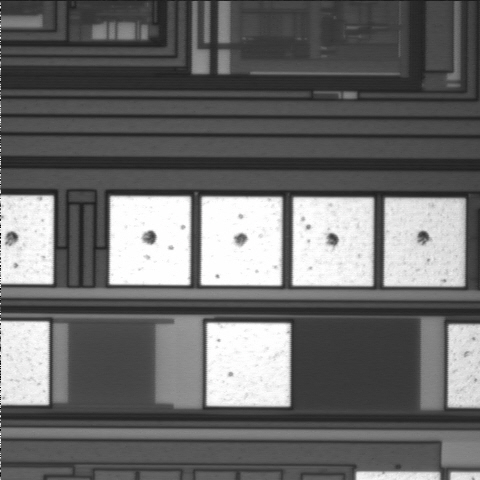pad: (109, 196, 191, 285), (292, 197, 374, 286), (201, 197, 282, 286), (384, 198, 465, 286), (207, 323, 290, 407)
